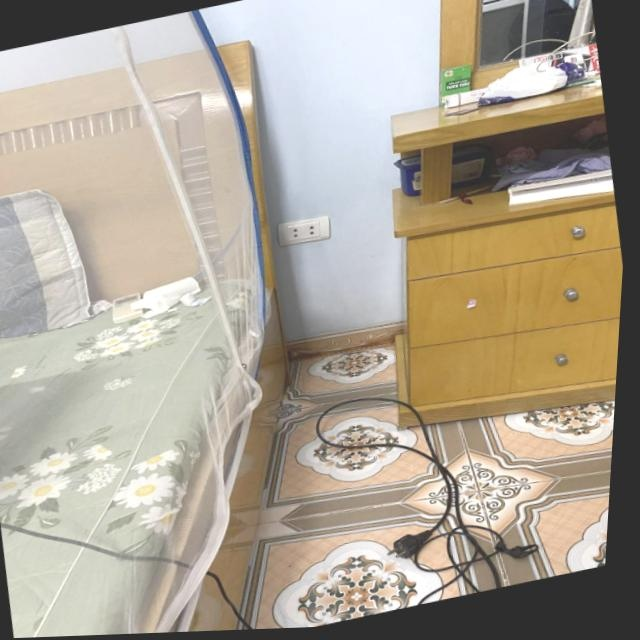outlet: (274, 212, 332, 249)
